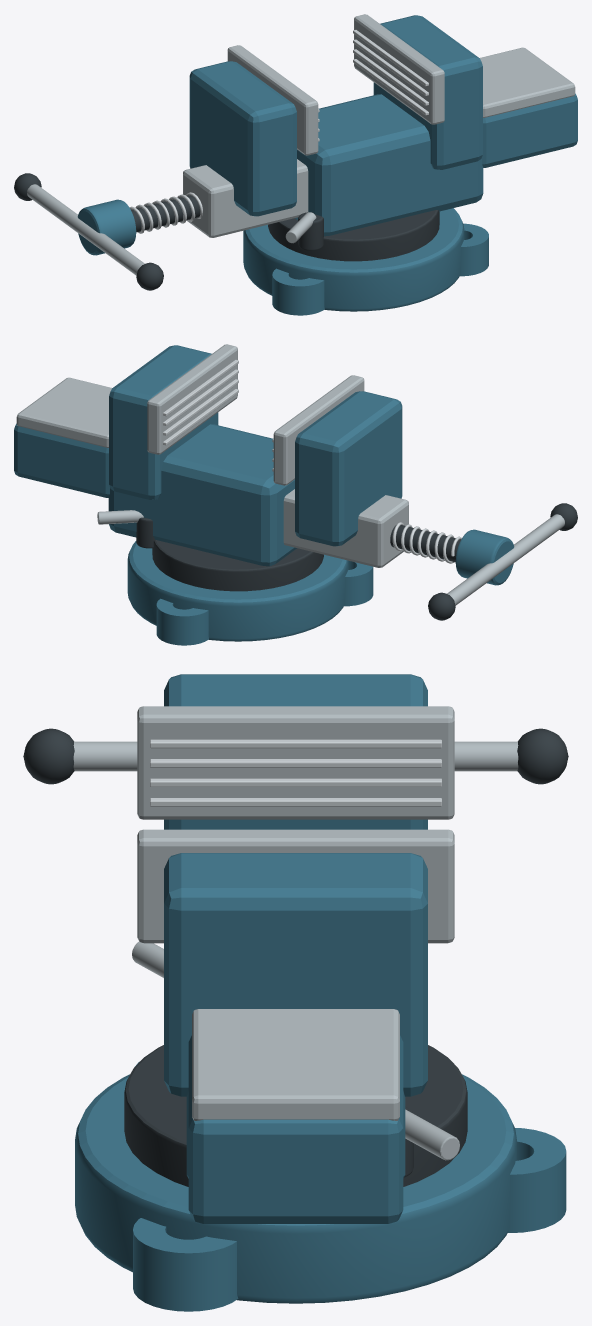
File: city-swivel-bench-vise.glb
3 renders of one model, top to bottom at view 1: azimuth 30°, elevation 25°; view 2: azimuth 150°, elevation 25°; view 3: azimuth 270°, elevation 25°, orthographic. The views are drawn at different scales.
Parts seen in each view (by area): view 1: Assembly | Muted blue instrument finish, Assembly | Satin instrument metal, Assembly | Dark instrument trim, Assembly | Bright connector metal; view 2: Assembly | Muted blue instrument finish, Assembly | Satin instrument metal, Assembly | Dark instrument trim, Assembly | Bright connector metal; view 3: Assembly | Muted blue instrument finish, Assembly | Satin instrument metal, Assembly | Dark instrument trim, Assembly | Bright connector metal.
Part boxes in pixels (x1=…): Assembly | Muted blue instrument finish: x1=77, y1=15, x2=577, y2=315; Assembly | Satin instrument metal: x1=27, y1=14, x2=575, y2=275; Assembly | Dark instrument trim: x1=14, y1=173, x2=439, y2=290; Assembly | Bright connector metal: x1=129, y1=30, x2=428, y2=233; Assembly | Muted blue instrument finish: x1=14, y1=345, x2=514, y2=645; Assembly | Satin instrument metal: x1=16, y1=344, x2=564, y2=605; Assembly | Dark instrument trim: x1=136, y1=503, x2=577, y2=620; Assembly | Bright connector metal: x1=163, y1=360, x2=461, y2=563; Assembly | Muted blue instrument finish: x1=75, y1=674, x2=566, y2=1311; Assembly | Satin instrument metal: x1=73, y1=706, x2=518, y2=1160; Assembly | Dark instrument trim: x1=23, y1=728, x2=568, y2=1186; Assembly | Bright connector metal: x1=150, y1=739, x2=441, y2=806.
Bounding box in the file's own units: 0.5135 × 0.2185 × 0.254.
